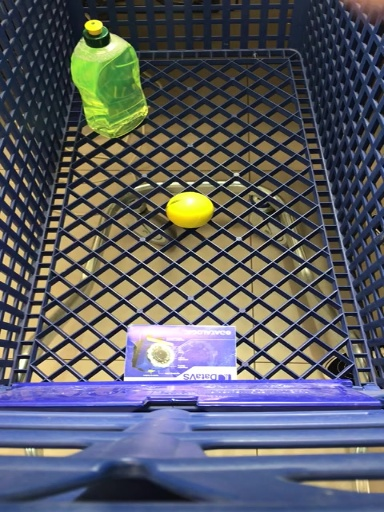Box: (123, 321, 238, 382)
Palla: (165, 191, 214, 227)
Sapone: (68, 19, 148, 142)
